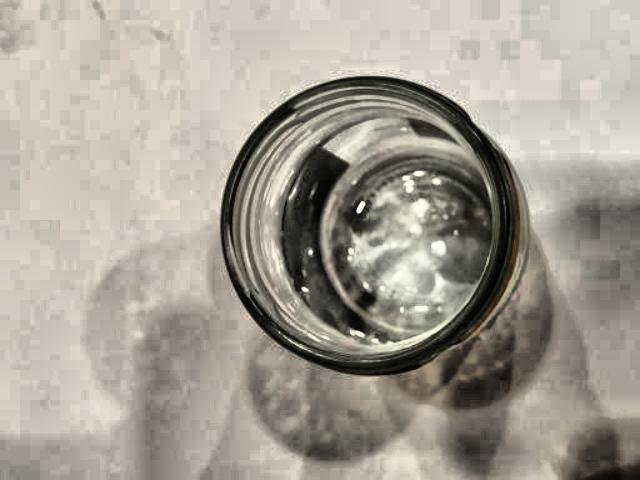Almennt: (192, 57, 566, 401)
